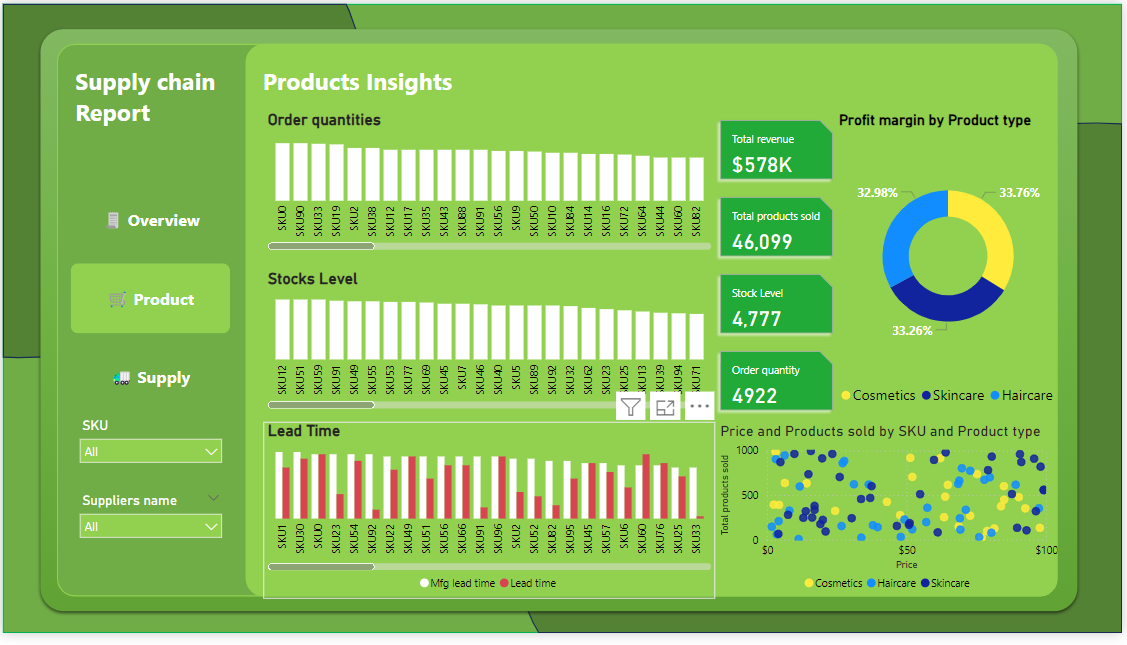

The page's visual inventory and layout, read from the dashboard file:
{"tool":"powerbi","page":{"name":"🛒 Product","canvas":[1280,720],"ordinal":1},"visuals":[{"type":"columnChart","title":"Order quantities","fields":{"Category":["supply_chain_data.SKU"],"Y":["Measures_required.Order quantity"]},"box":[298.6,122.9,517.1,164.3],"z":0},{"type":"pageNavigator","box":[78.6,207.1,182.9,261.4],"z":0,"group":"g1"},{"type":"columnChart","title":"Stocks Level","fields":{"Category":["supply_chain_data.SKU"],"Y":["Measures_required.Stock Level"]},"box":[298.6,304.3,517.1,164.3],"z":1000},{"type":"slicer","fields":{"Values":["supply_chain_data.SKU"]},"box":[78.6,468.6,182.9,67.1],"z":1000,"group":"g1"},{"type":"clusteredColumnChart","title":"Lead Time","fields":{"Category":["supply_chain_data.SKU"],"Y":["Sum(supply_chain_data.Manufacturing lead time)","Sum(supply_chain_data.Lead time)"]},"box":[298.6,478.6,517.1,202.9],"z":2000},{"type":"slicer","fields":{"Values":["supply_chain_data.Supplier name"]},"box":[78.6,554.3,182.9,67.1],"z":2000,"group":"g1"},{"type":"textbox","box":[78.6,65.7,182.9,122.9],"z":3000,"group":"g1"},{"type":"cardVisual","fields":{"Data":["Measures_required.Total revenue","Measures_required.Total products sold","Measures_required.Stock Level","Measures_required.Order quantity"]},"box":[810,122.9,151.4,355.7],"z":3000},{"type":"donutChart","title":"Profit margin by Product type","fields":{"Y":["Measures_required.Avg profit margin"],"Category":["supply_chain_data.Product type"]},"box":[951.4,122.9,260,345.7],"z":4000},{"type":"scatterChart","title":"Price and Products sold by SKU and Product type","fields":{"Category":["supply_chain_data.SKU"],"X":["Sum(supply_chain_data.Price)"],"Y":["Sum(supply_chain_data.Number of products sold)"],"Series":["supply_chain_data.Product type"]},"box":[815.7,478.6,395.7,202.9],"z":5000},{"type":"textbox","box":[292.9,65.7,304.3,57.1],"z":6000},{"type":"group","id":"g1","title":"Group 1","box":[78.6,65.7,182.9,555.7],"z":6001}]}

Visuals, with their boxes in screenshot pixels (x1, y1, x2, y2), scaled from the page's 1280x720 canvas onto the 1127x645 screenshot:
"Order quantities" columnChart: bbox(263, 110, 718, 257)
pageNavigator: bbox(69, 186, 230, 420)
"Stocks Level" columnChart: bbox(263, 273, 718, 420)
slicer - supply_chain_data.SKU: bbox(69, 420, 230, 480)
"Lead Time" clusteredColumnChart: bbox(263, 429, 718, 611)
slicer - supply_chain_data.Supplier name: bbox(69, 497, 230, 557)
textbox: bbox(69, 59, 230, 169)
cardVisual - Measures_required.Total revenue x Measures_required.Total products sold: bbox(713, 110, 846, 429)
"Profit margin by Product type" donutChart: bbox(838, 110, 1067, 420)
"Price and Products sold by SKU and Product type" scatterChart: bbox(718, 429, 1067, 611)
textbox: bbox(258, 59, 526, 110)
"Group 1" group: bbox(69, 59, 230, 557)
